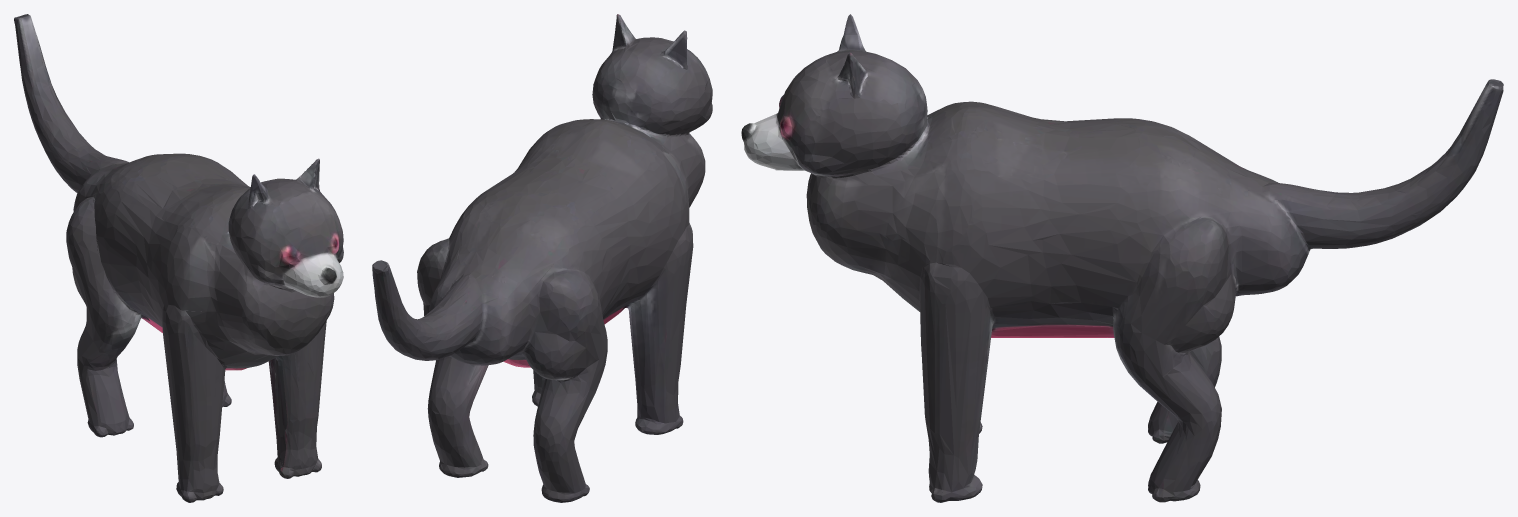
The model's file is creature-090.lod.glb.
3 views of the same model, side by side, from view 1: azimuth 30°, elevation 25°; view 2: azimuth 150°, elevation 25°; view 3: azimuth 270°, elevation 25° (orthographic). The views are drawn at different scales.
Visible parts, largest first — view 1: tmpgsp9tt0x.ply; view 2: tmpgsp9tt0x.ply; view 3: tmpgsp9tt0x.ply.
Part boxes in pixels (x1=…): tmpgsp9tt0x.ply: x1=14, y1=14, x2=343, y2=502; tmpgsp9tt0x.ply: x1=372, y1=14, x2=712, y2=502; tmpgsp9tt0x.ply: x1=741, y1=14, x2=1503, y2=502.
Size of the model in its own units: 0.6197 by 1.24 by 1.99.
1 material, 1 textured.
